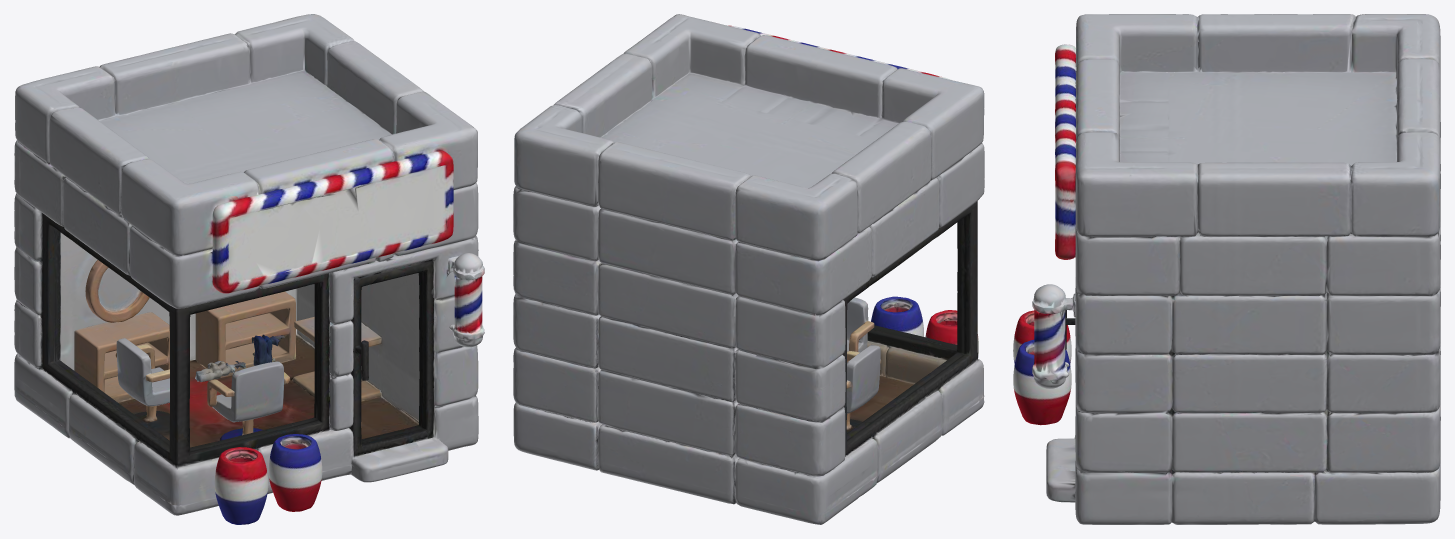
File: shop-salon.glb
3 views of the same model, side by side, from view 1: azimuth 30°, elevation 25°; view 2: azimuth 150°, elevation 25°; view 3: azimuth 270°, elevation 25° (orthographic). The views are drawn at different scales.
Parts seen in each view (by area): view 1: tripo_node_453ba190-2fe3-40a4-9a18-5b7ce0aaf159; view 2: tripo_node_453ba190-2fe3-40a4-9a18-5b7ce0aaf159; view 3: tripo_node_453ba190-2fe3-40a4-9a18-5b7ce0aaf159.
Boxes of the visible parts, x1,y1,x2,y2 form: tripo_node_453ba190-2fe3-40a4-9a18-5b7ce0aaf159: (14, 14, 484, 524); tripo_node_453ba190-2fe3-40a4-9a18-5b7ce0aaf159: (513, 14, 984, 524); tripo_node_453ba190-2fe3-40a4-9a18-5b7ce0aaf159: (1013, 14, 1440, 524).
Bounding box in the file's own units: 0.9033 × 0.8867 × 0.98.
1 material, 1 textured.
